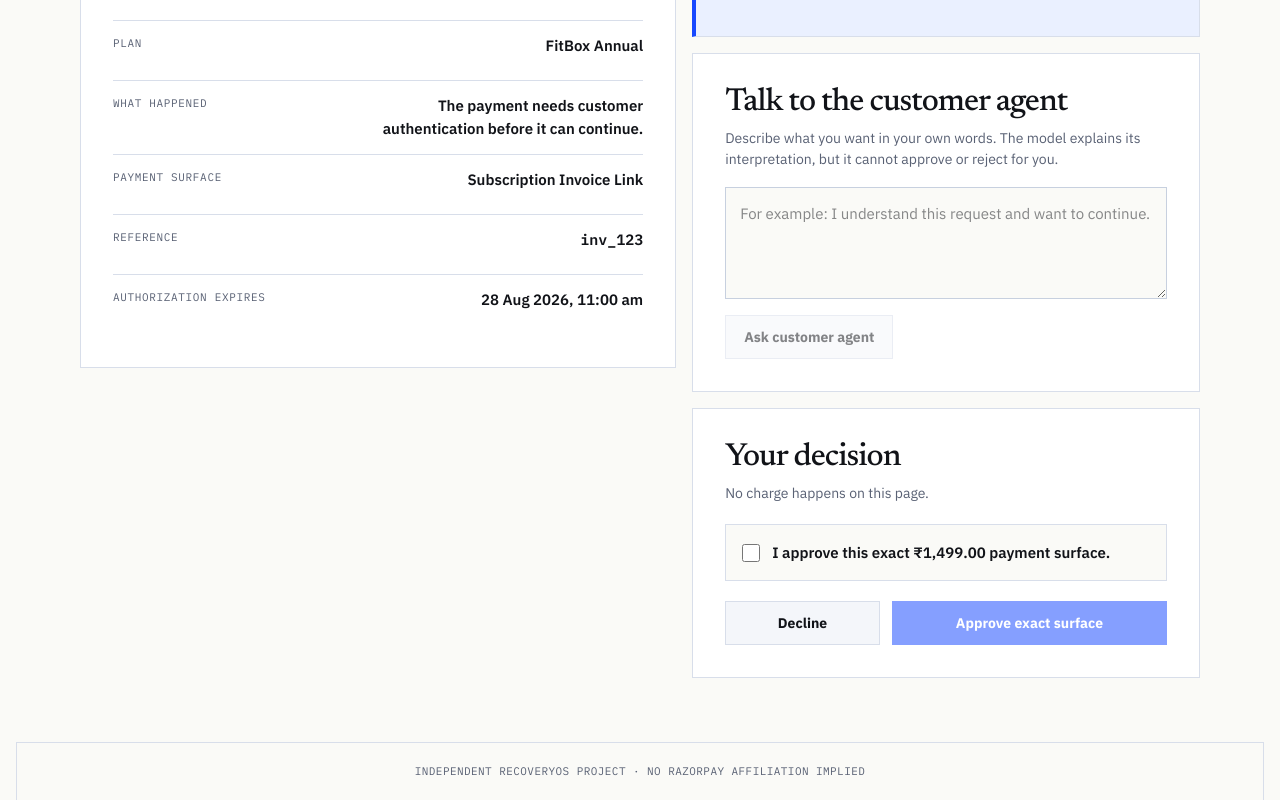
CustomerApproval › requires explicit confirmation and sends the exact scope
(page scrolled)
Check: the text "FitBox Annual" is shown, box [546,36,643,55]
Check: the text "The payment needs customer authentication before it can continue." is shown, box [341,95,643,140]
Click the checkbox labelled "I approve this exact ₹1,499.00 payment surface." at (751, 553), box [742,544,760,562]
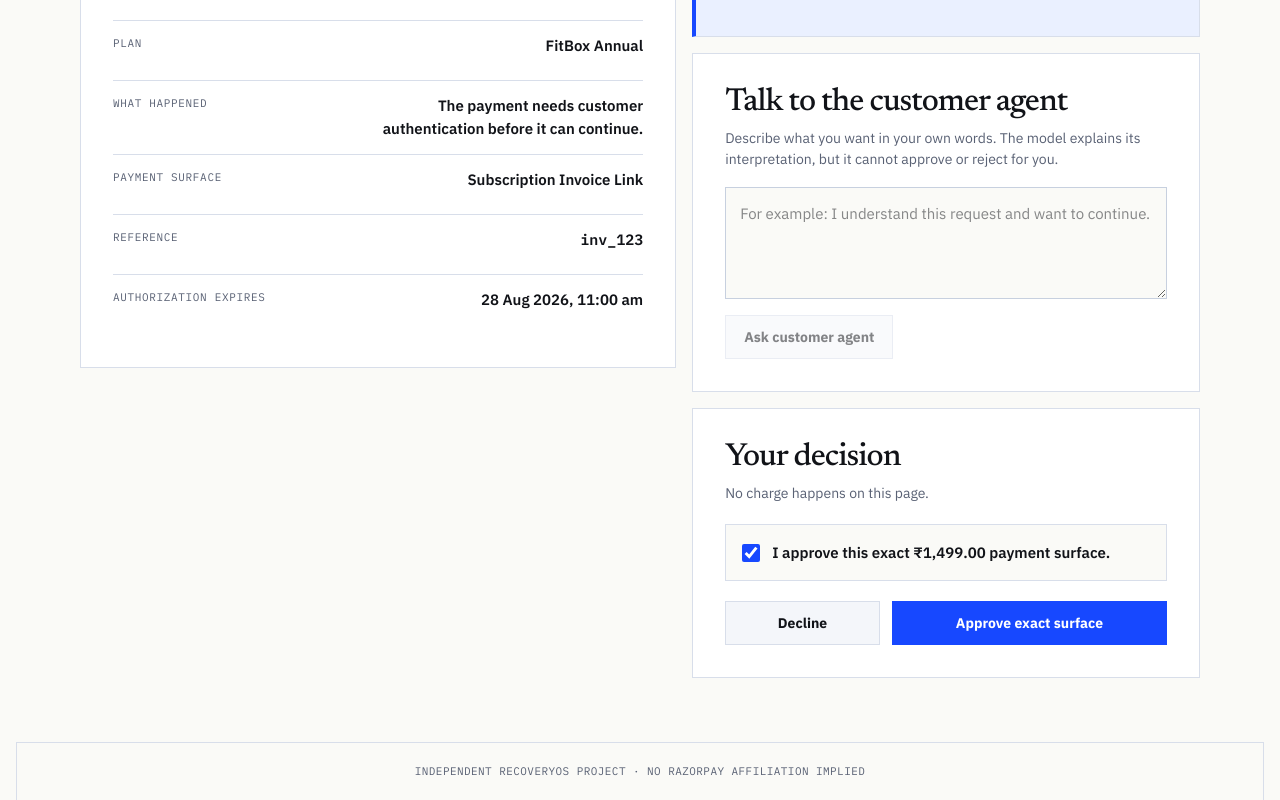
Check: the button "Approve exact surface" is enabled
Click the button "Approve exact surface" at (1029, 624), box [892,602,1167,646]
(page scrolled)
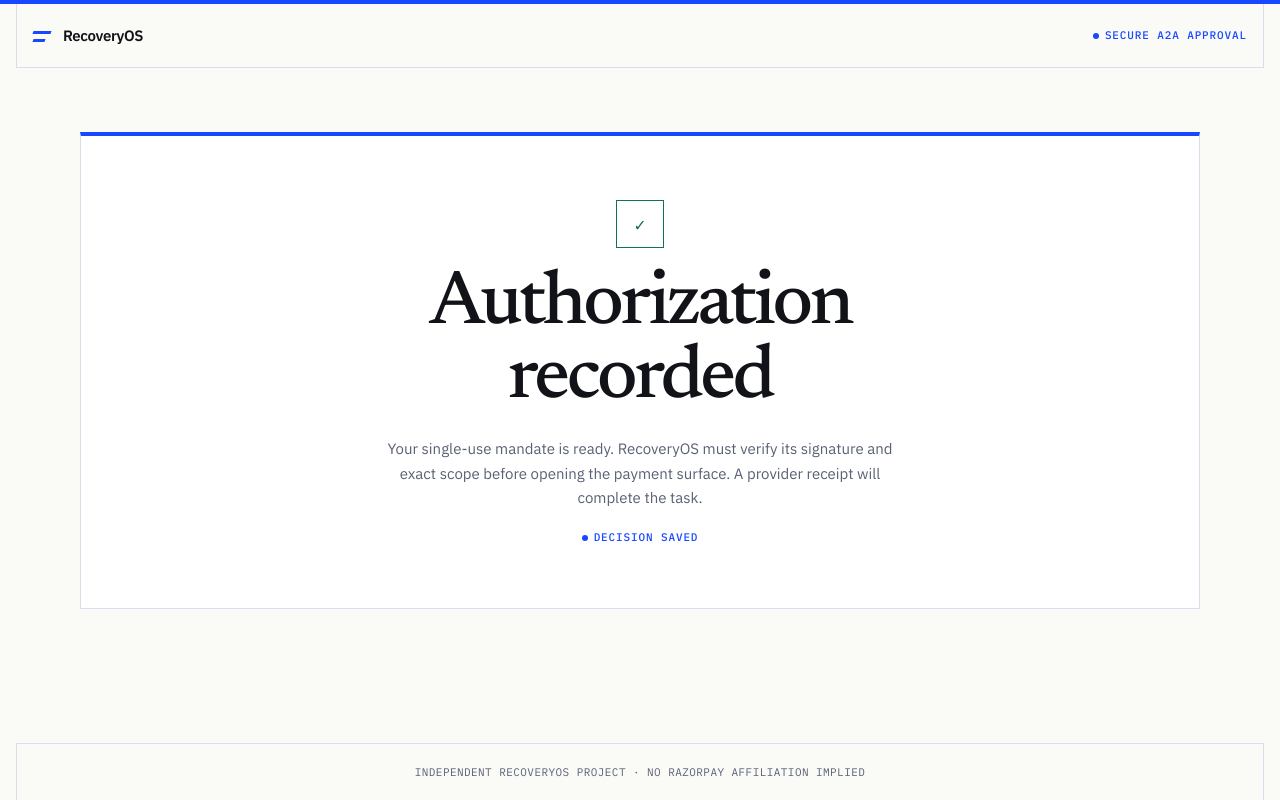
Check: the heading "Authorization recorded" is shown, box [429,267,851,418]
